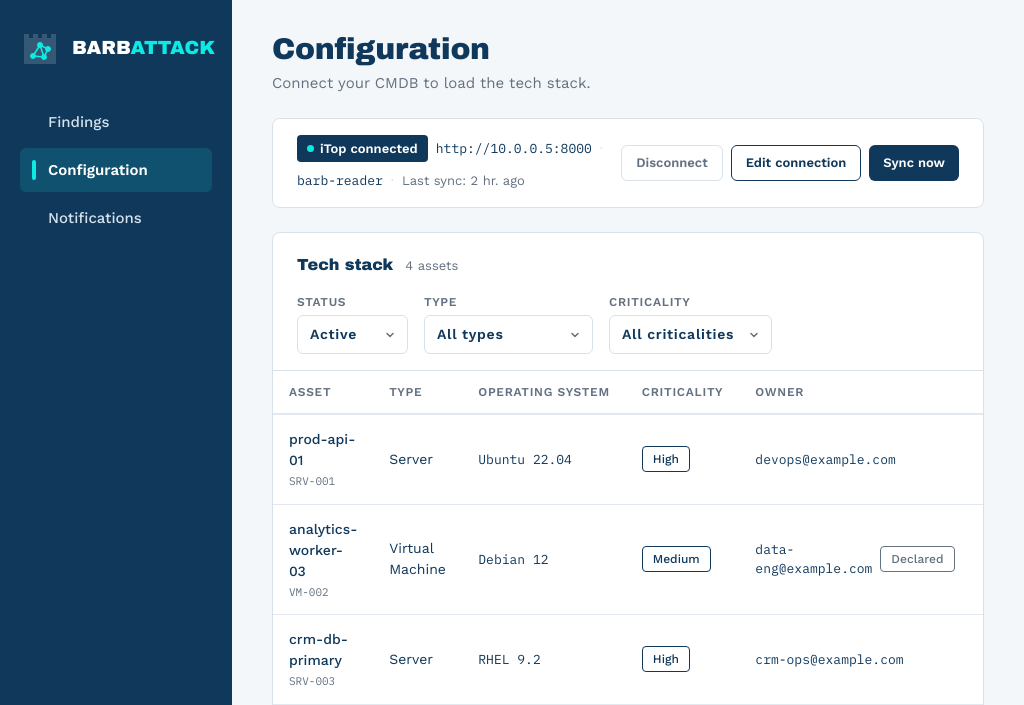
Test: Configuration › syncing updates the time without refetching the connection
This screenshot has width=1024, height=705.
Expected: the text "iTop connected" is shown, [297,134,428,162]
Click the button "Sync now" at x=914, y=163, box [869,145,959,181]
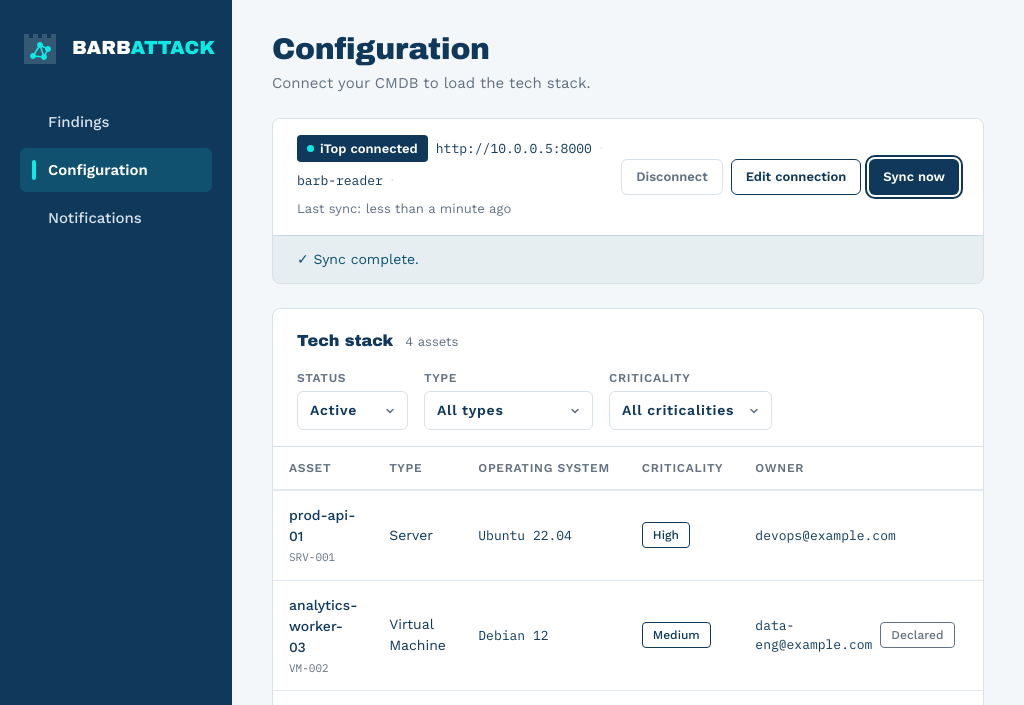
Result: the text "Last sync: less than a minute ago" is shown at [297,199,511,218]
